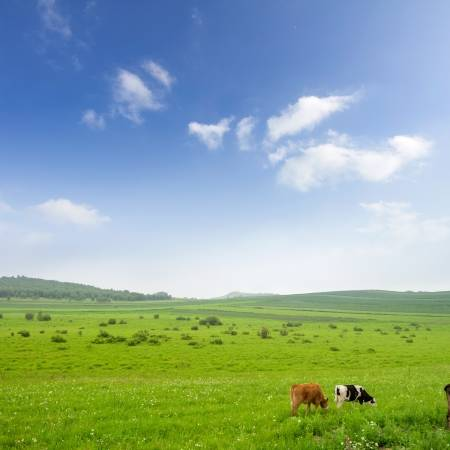sheep: (289, 379, 330, 420), (333, 381, 378, 412)
